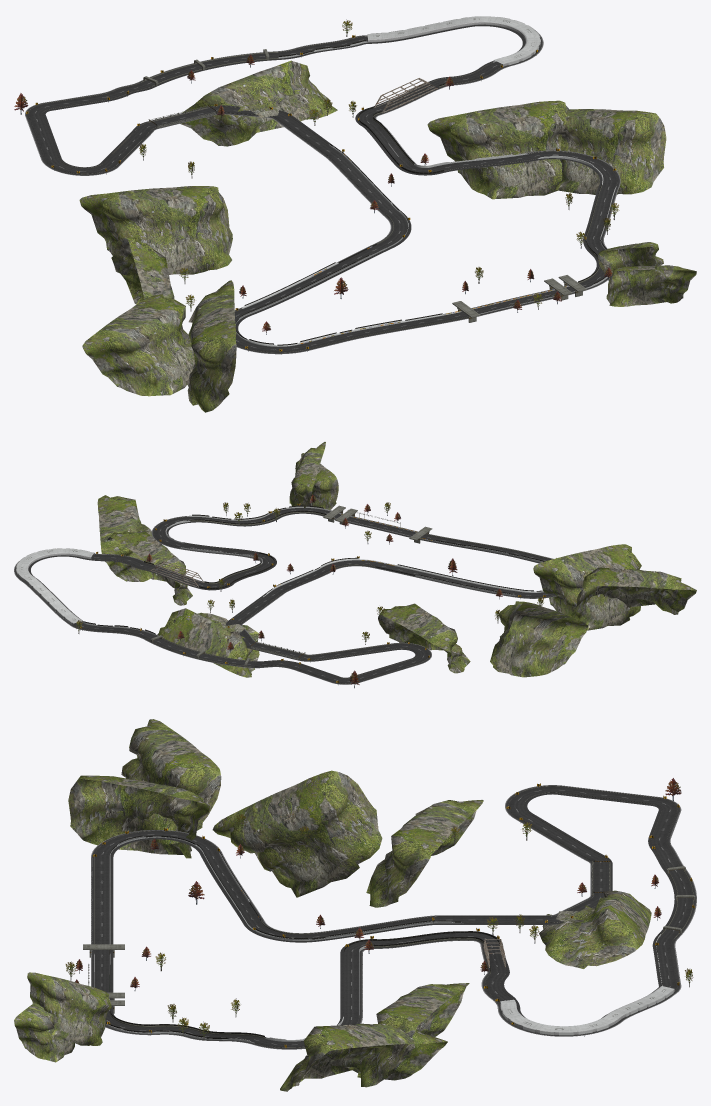
File: level_01.fbx
3 renders of one model, top to bottom at view 1: azimuth 30°, elevation 25°; view 2: azimuth 150°, elevation 25°; view 3: azimuth 270°, elevation 25°, orthographic. The views are drawn at different scales.
Parts seen in each view (by area): view 1: Road, rocks_1, roacks, rocks_2, rock, roacks_1, rocks, side_boundries_3, roacks_2, rock_1, side_boundries, rocks_3 (+3 smaller); view 2: Road, rock_1, rocks, rocks_2, roacks_1, side_boundries_3, rocks_1, rock, roacks, side_boundries, rocks_3, side_boundries_1 (+3 smaller); view 3: Road, rock_1, rocks, roacks_1, rock, rocks_2, rocks_1, roacks, rocks_3, side_boundries_3, roacks_2, side_boundries (+2 smaller).
Part boxes in pixels (x1,y1,x2,y2): Road: (25,24,620,354); rocks_1: (79,186,232,274); roacks: (427,100,569,199); rocks_2: (82,294,195,396); rock: (555,109,666,194); roacks_1: (180,60,337,146); rocks: (187,280,236,412); side_boundries_3: (235,16,616,346); roacks_2: (606,265,696,306); rock_1: (111,237,174,304); side_boundries: (235,40,609,345); rocks_3: (598,242,667,279); Road: (14,507,557,684); rock_1: (490,601,587,677); rocks: (533,544,641,630); rocks_2: (575,567,696,614); roacks_1: (157,608,259,677); side_boundries_3: (16,506,543,635); rocks_1: (378,603,470,673); rock: (97,495,157,581); roacks: (107,531,192,605); side_boundries: (84,505,544,634); rocks_3: (289,442,325,507); side_boundries_1: (74,516,555,683); Road: (91,785,696,1049); rock_1: (212,770,382,897); rocks: (68,775,209,858); roacks_1: (539,890,651,968); rock: (280,1023,447,1091); rocks_2: (121,719,221,844); rocks_1: (366,800,483,907); roacks: (357,983,469,1087); rocks_3: (27,972,111,1045); side_boundries_3: (94,836,674,1043); roacks_2: (14,1003,74,1062); side_boundries: (106,835,662,1038).
Size of what is drawn, in the model's own units: 119713 by 23114 by 99514.
